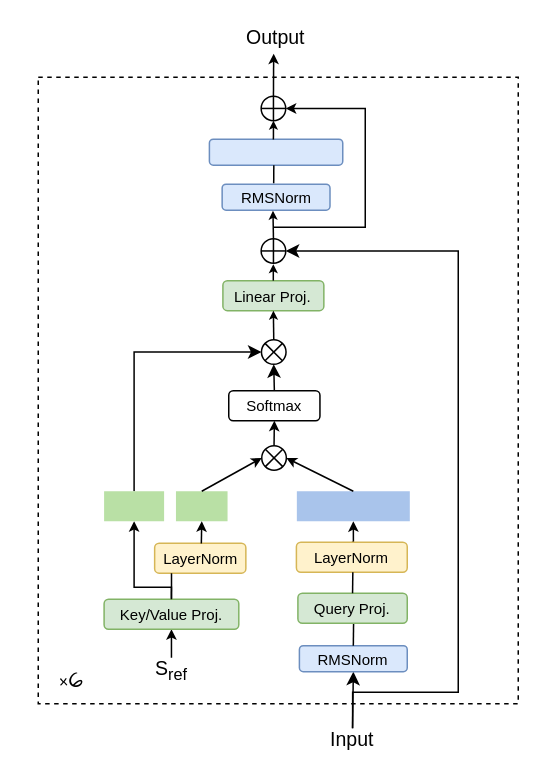
This 545x777 diagram has some shape labels left out. The centre of each missing label's shape, as x and y in pixels:
"C Q" belongs at point (352, 505).
"Feed Forward" belongs at point (275, 151).
"S K" belongs at point (201, 505).
"S V" belongs at point (133, 505).
